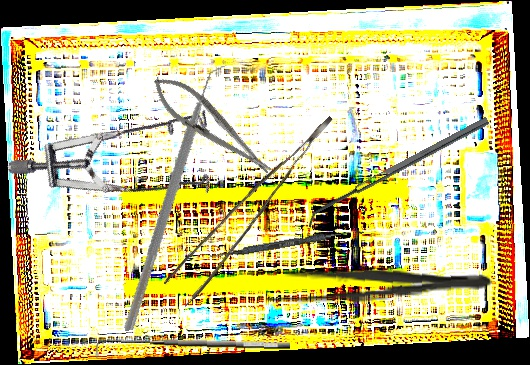Chopper: (68, 63, 290, 332)
Dressing Forceps: (265, 263, 493, 307)
Hook Surgical: (94, 333, 291, 365)
Needle Holder: (143, 66, 281, 186)
Spatula Surgical: (302, 116, 494, 229), (209, 224, 365, 263)
Speculum: (4, 39, 242, 260)
Tissue Forceps: (155, 116, 360, 307)
